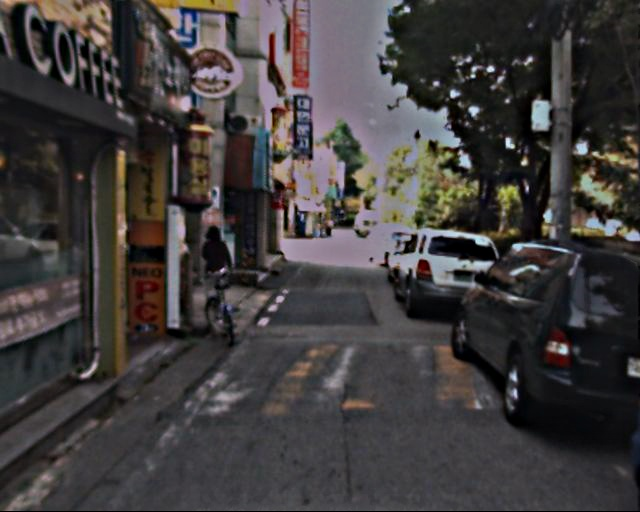person: (197, 223, 234, 312)
